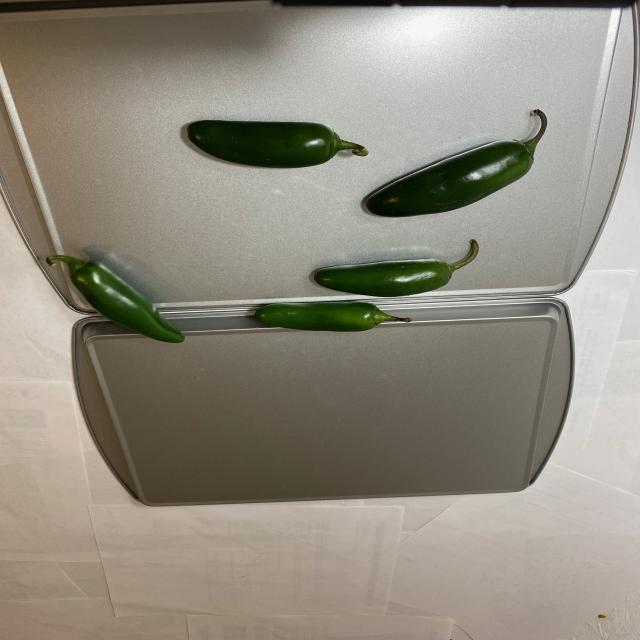chilli: (56, 103, 552, 339)
